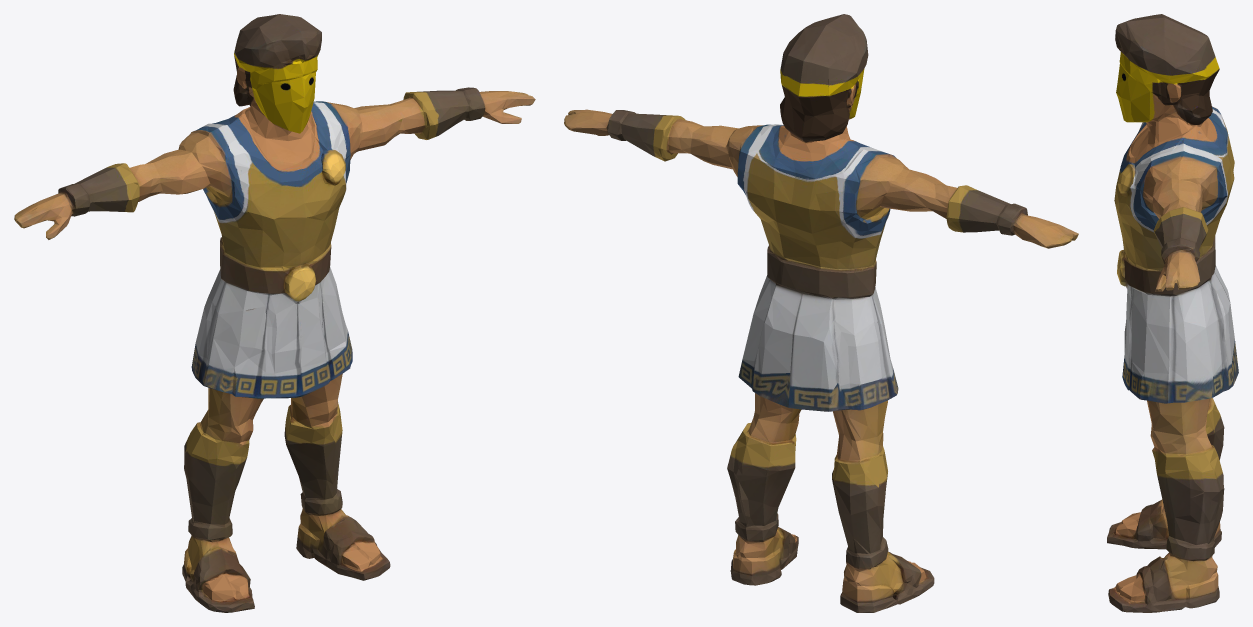
Rendered from LUK.fbx.
3 views of the same model, side by side, from view 1: azimuth 30°, elevation 25°; view 2: azimuth 150°, elevation 25°; view 3: azimuth 270°, elevation 25° (orthographic).
Parts seen in each view (by area): view 1: Mesh_0; view 2: Mesh_0; view 3: Mesh_0.
Part boxes in pixels (x1=…): Mesh_0: x1=14, y1=14, x2=535, y2=612; Mesh_0: x1=564, y1=14, x2=1078, y2=612; Mesh_0: x1=1107, y1=14, x2=1238, y2=612.
Size of the model in its own units: 192 by 200 by 43.29.
Materials: 1 (1 with a texture image).
